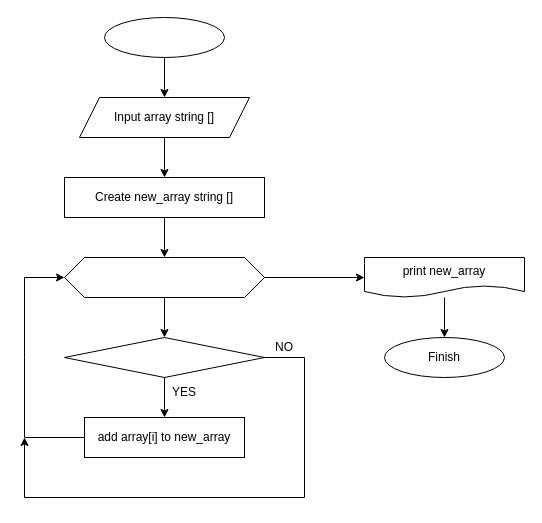
The diagram is 542 pixels wide and 523 high, and some of its shapes have lost their labels. Here are the shapes that lost their labels. From the top down, the centre of each, then its label:
At pixel 164 37: "Start".
At pixel 164 277: "for i = 0, i < array.length, i++".
At pixel 164 357: "if array[i].length <= 3".
